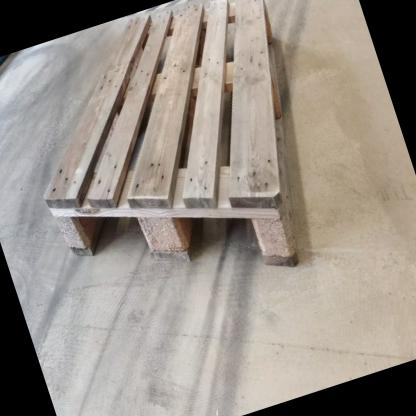BoxFace: (38, 0, 305, 270)
